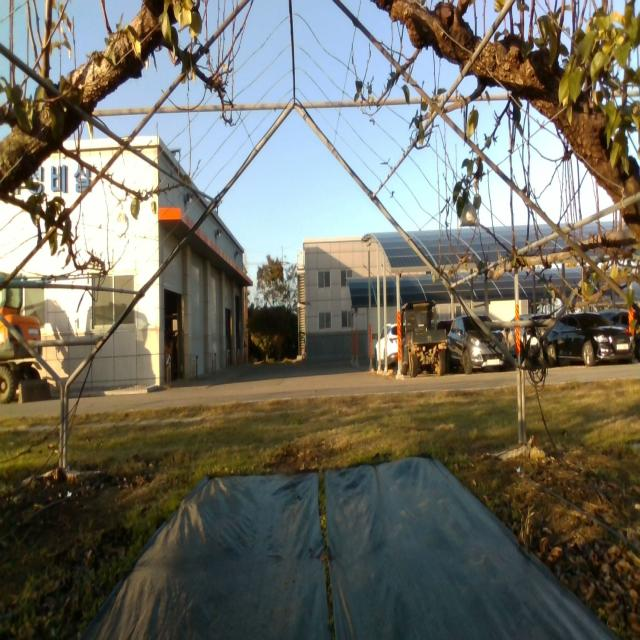pearbags: (459, 201, 480, 229), (115, 208, 128, 240)
